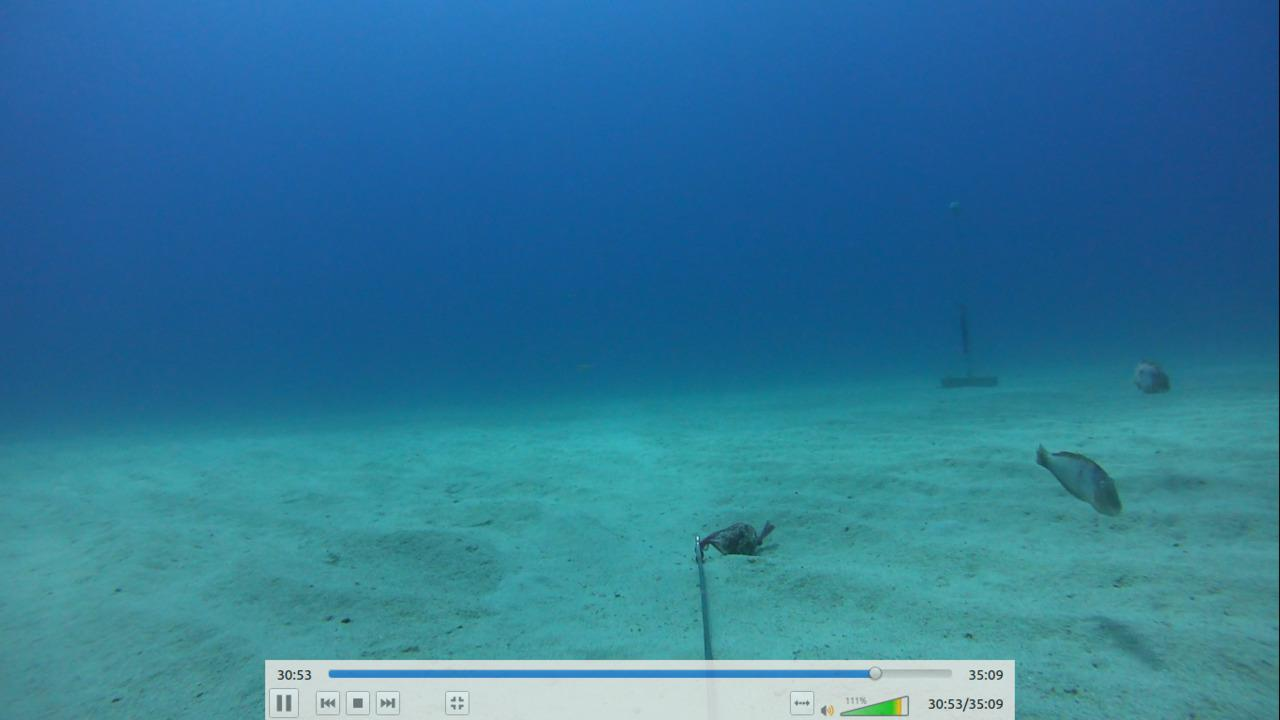raor: (1028, 440, 1125, 520), (1124, 356, 1178, 397)
